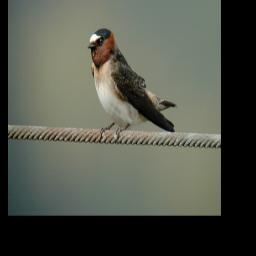Swallow: (84, 23, 178, 140)
